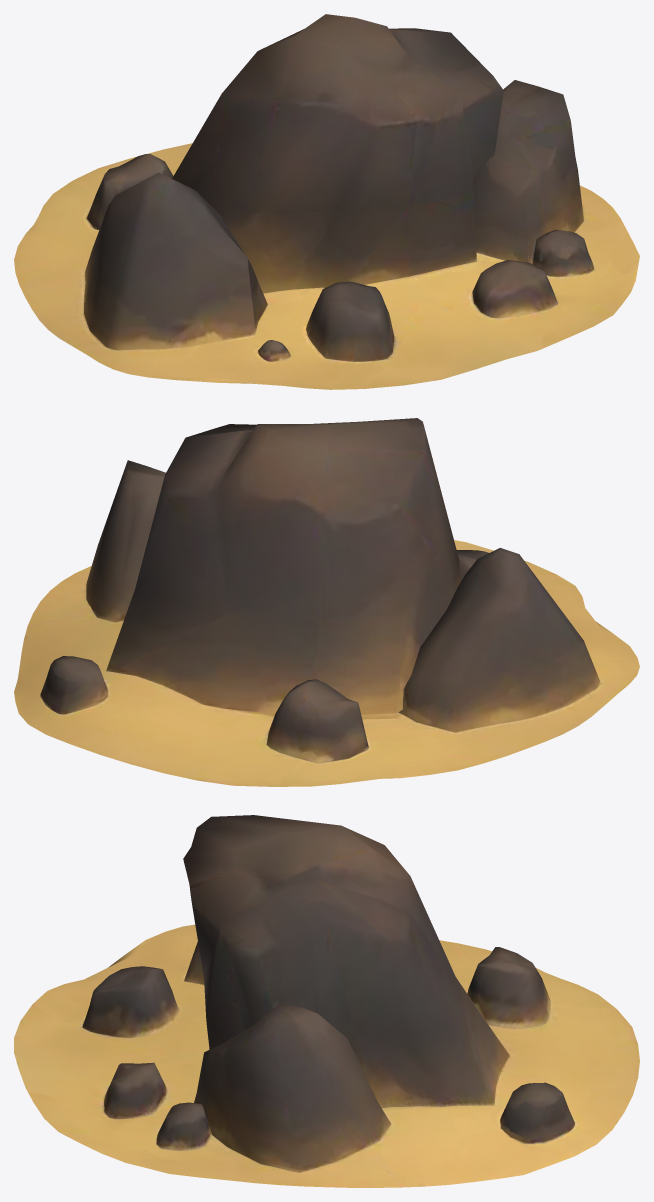
The model's file is SM_Tripo_DesertGravelScatter.glb.
3 views of the same model, one above another, from view 1: azimuth 30°, elevation 25°; view 2: azimuth 150°, elevation 25°; view 3: azimuth 270°, elevation 25° (orthographic). The views are drawn at different scales.
Visible parts, largest first — view 1: SM_Tripo_DesertGravelScatter_LOD0; view 2: SM_Tripo_DesertGravelScatter_LOD0; view 3: SM_Tripo_DesertGravelScatter_LOD0.
Part boxes in pixels (<box>): SM_Tripo_DesertGravelScatter_LOD0: <box>14,14,639,389</box>; SM_Tripo_DesertGravelScatter_LOD0: <box>14,418,639,786</box>; SM_Tripo_DesertGravelScatter_LOD0: <box>14,815,639,1187</box>.
Size of the model in its own units: 1.05 by 0.45 by 1.04.
1 material, 1 textured.
